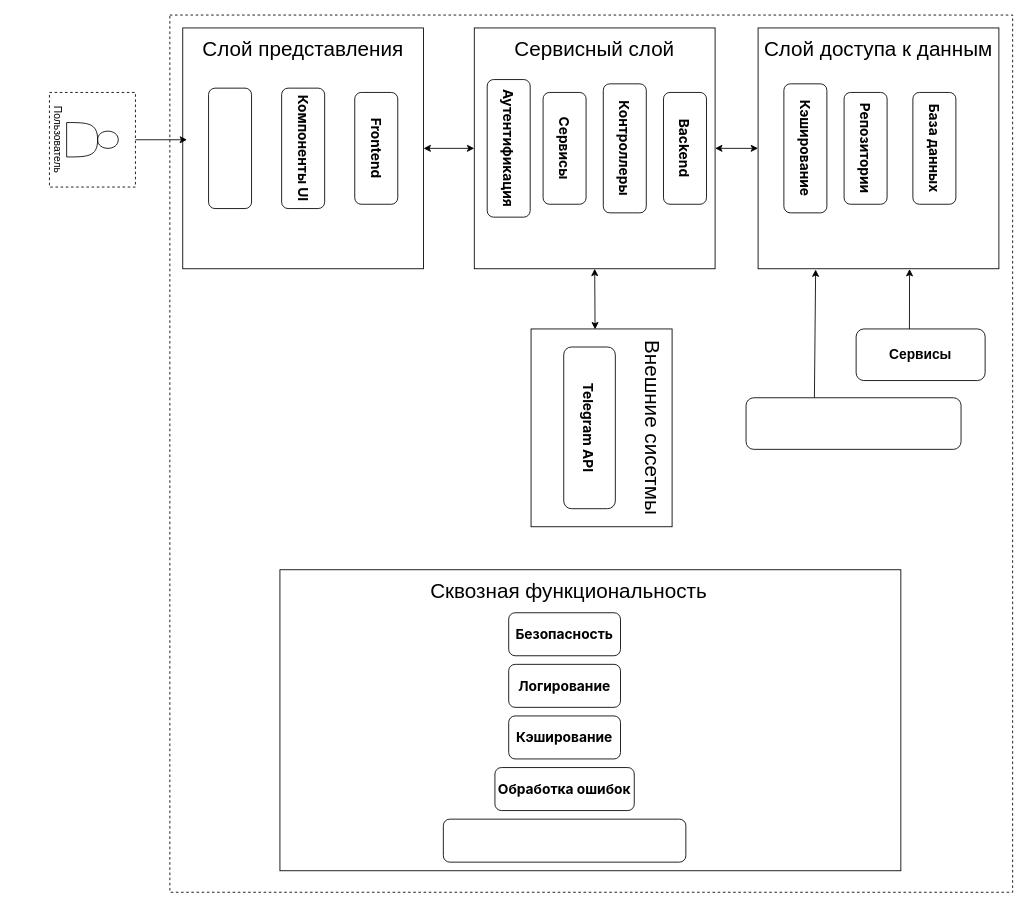
The diagram is 1028 pixels wide and 907 high, and some of its shapes have lost their labels. Each missing label, with the centre of its shape:
web: [92,139]
Аутентификация и авторизация: [564,840]
Источники данных: [853,423]
Логика представления: [230,148]
